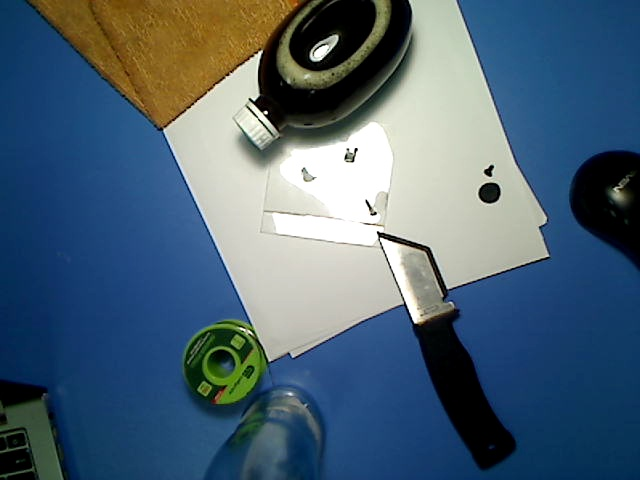plast_bottle: (230, 1, 416, 156)
